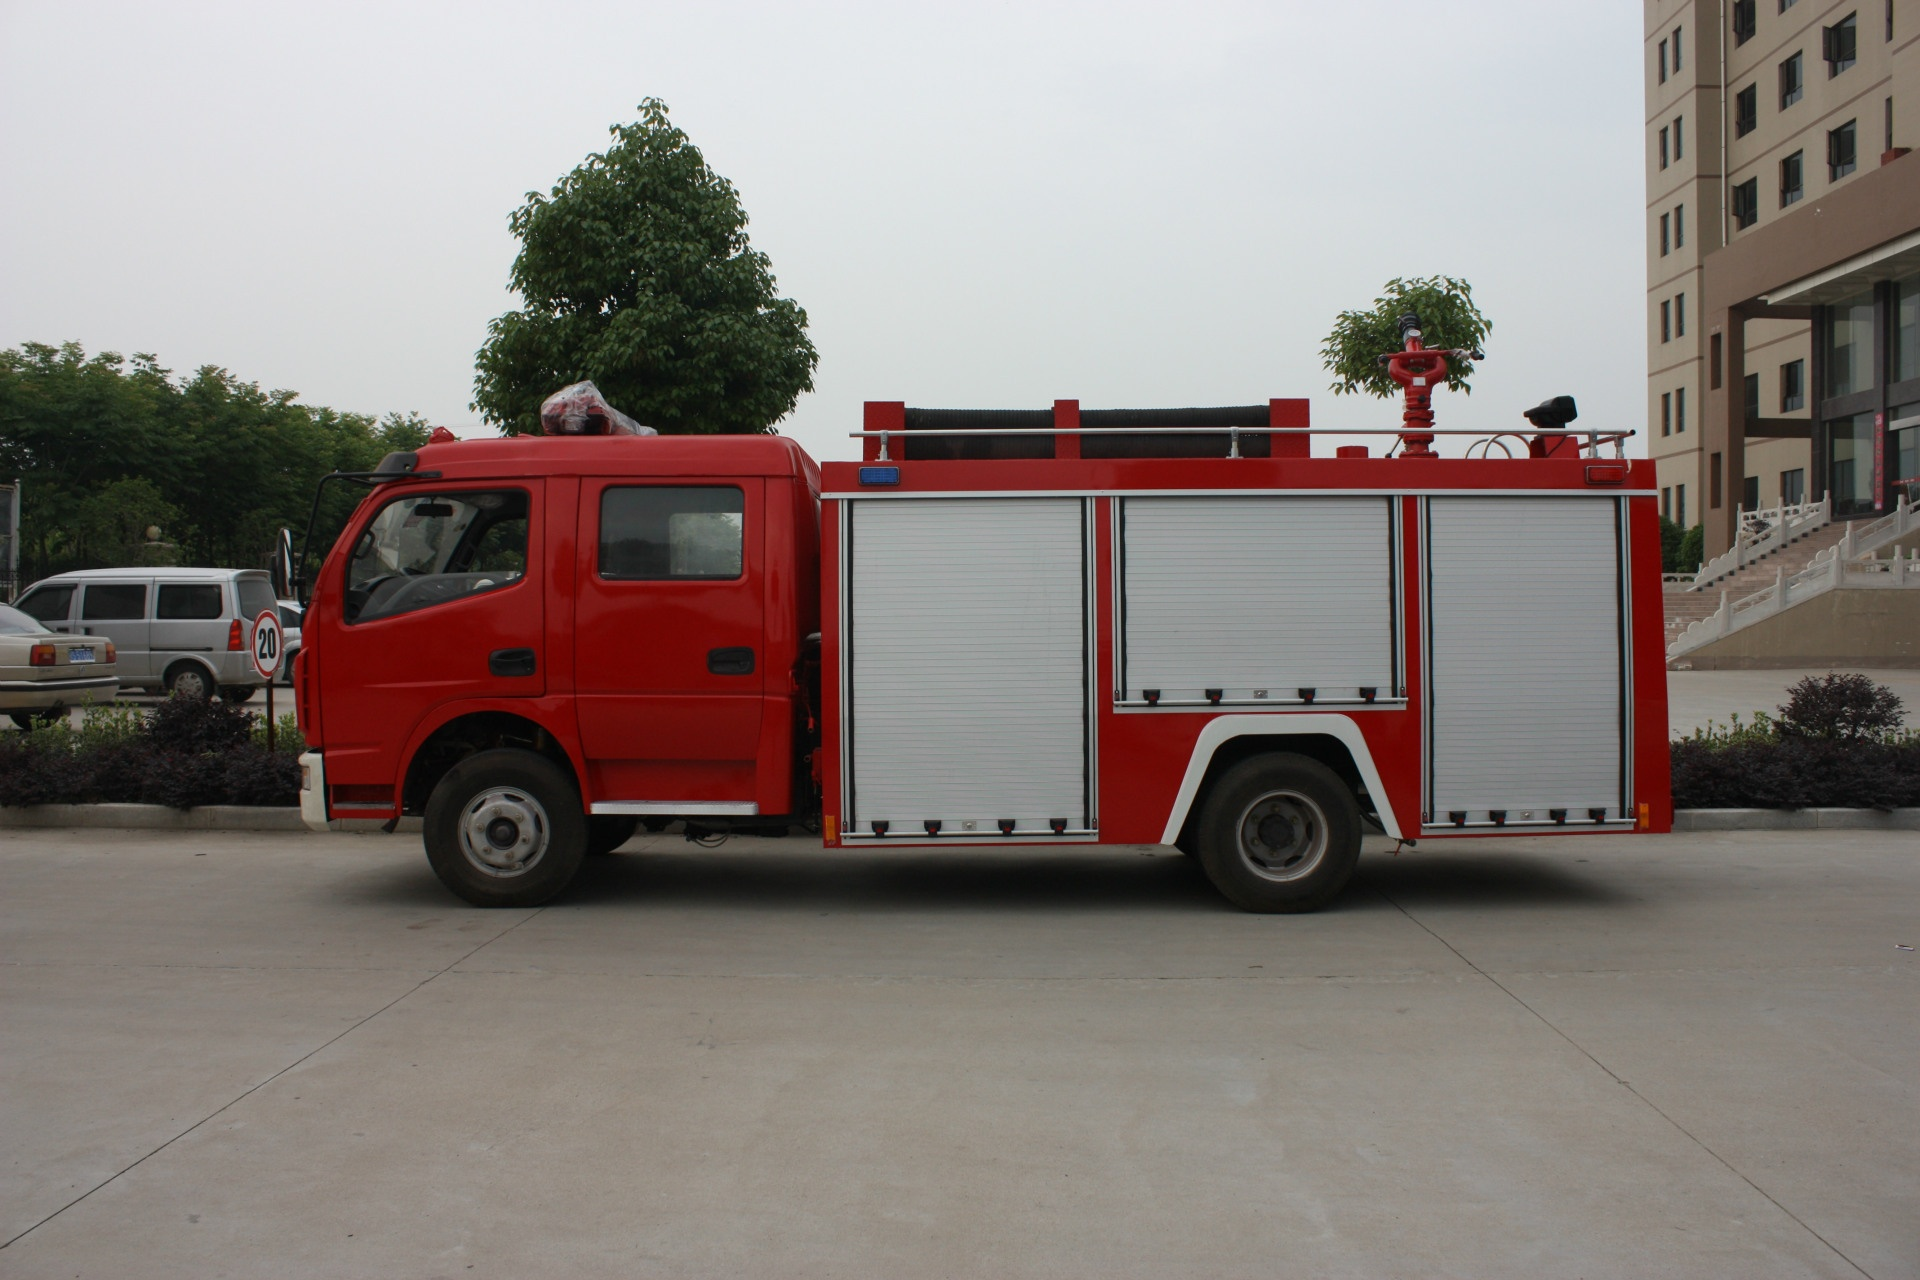fire engine: (286, 374, 1720, 919)
minibus: (29, 531, 281, 703)
